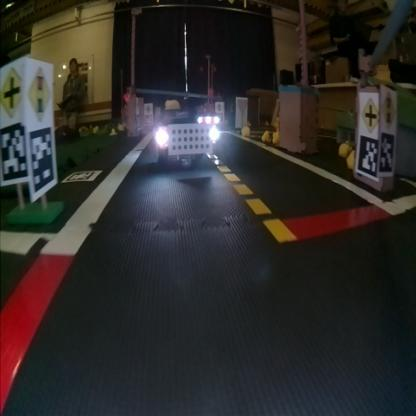Duckie: (166, 98, 182, 108), (348, 151, 356, 167), (340, 142, 350, 154), (262, 130, 270, 142), (242, 126, 250, 136), (273, 131, 279, 143), (111, 127, 117, 136), (118, 123, 124, 131), (94, 127, 99, 132)
Duckiebot: (156, 114, 218, 160)
Intersection sign: (4, 62, 26, 122), (361, 92, 379, 132), (145, 102, 153, 114)
QR code: (30, 125, 56, 195), (7, 124, 28, 184), (358, 136, 378, 178), (379, 131, 398, 175), (65, 169, 103, 182), (145, 114, 153, 124)
Signal sign: (28, 64, 53, 120), (381, 90, 398, 126)
